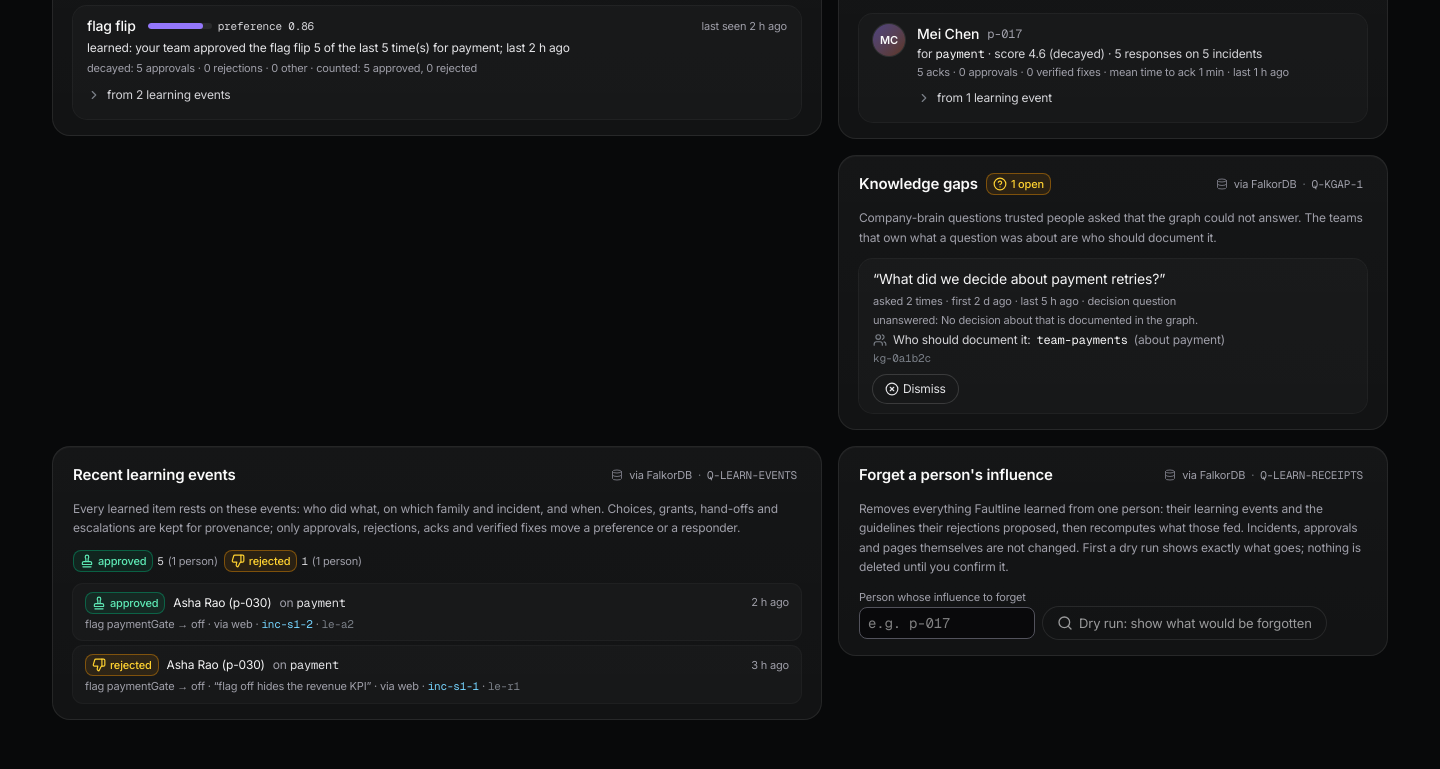
Test case: What Faultline has learned › forget: a stale token (409) deletes nothing and offers the dry run again
(page scrolled)
Type "p-030" into the field labelled "Person whose influence to forget" at (947, 623), box [859,607,1035,639]
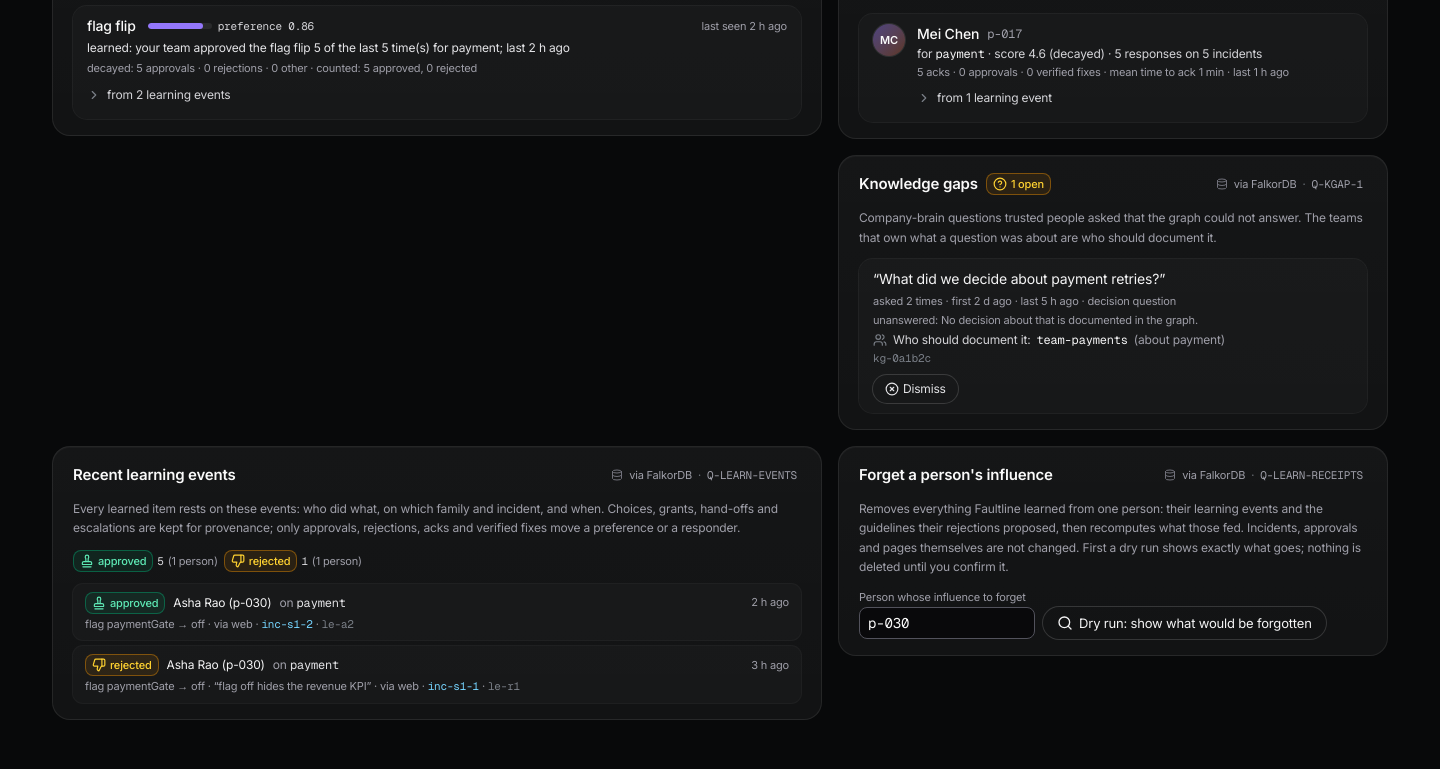
Click the button "Dry run: show what would be forgotten" at (1184, 623), box [1043,607,1326,639]
(page scrolled)
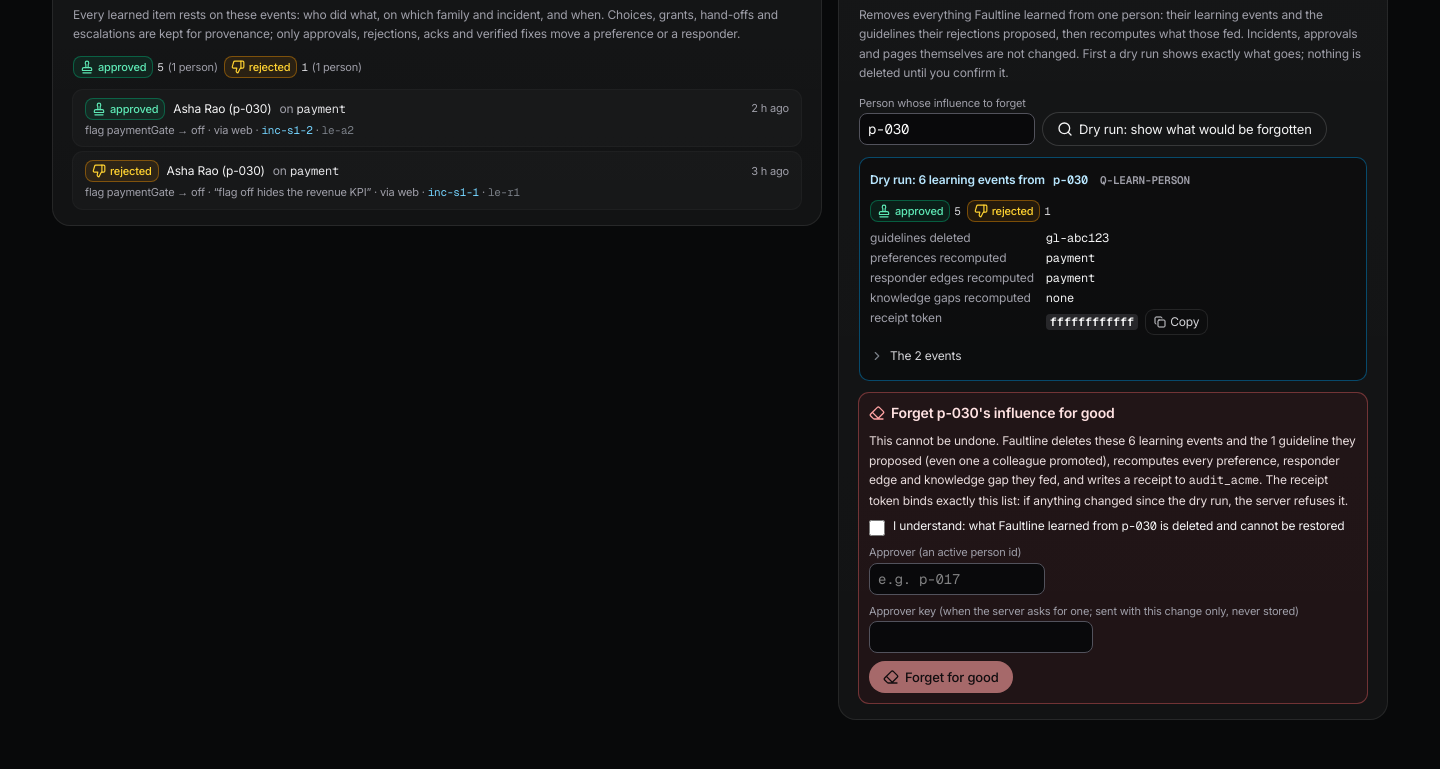
Type "p-017" into the field labelled "Approver (an active person id)" at (957, 579), box [869,563,1045,595]
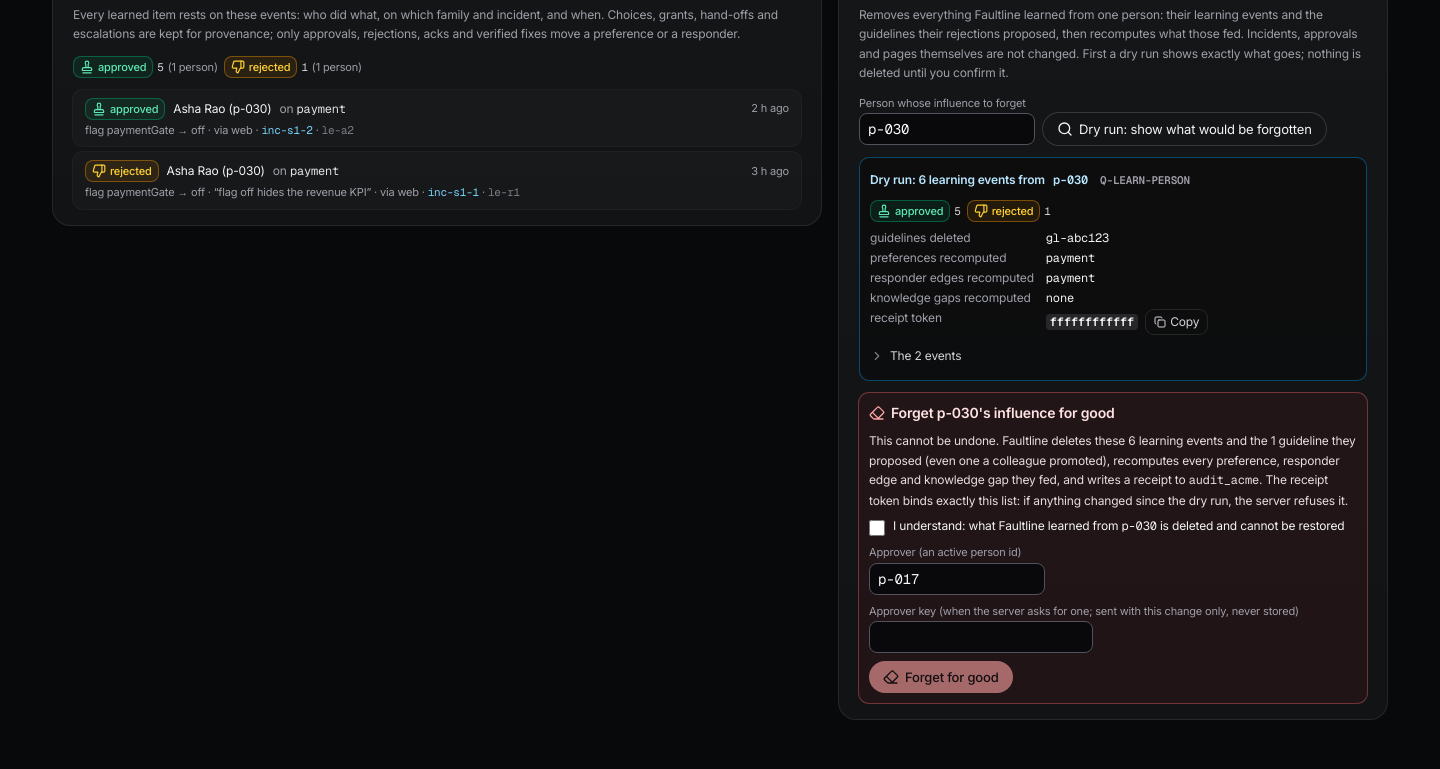
Click the checkbox labelled "I understand" at (877, 528), box [869,520,885,536]
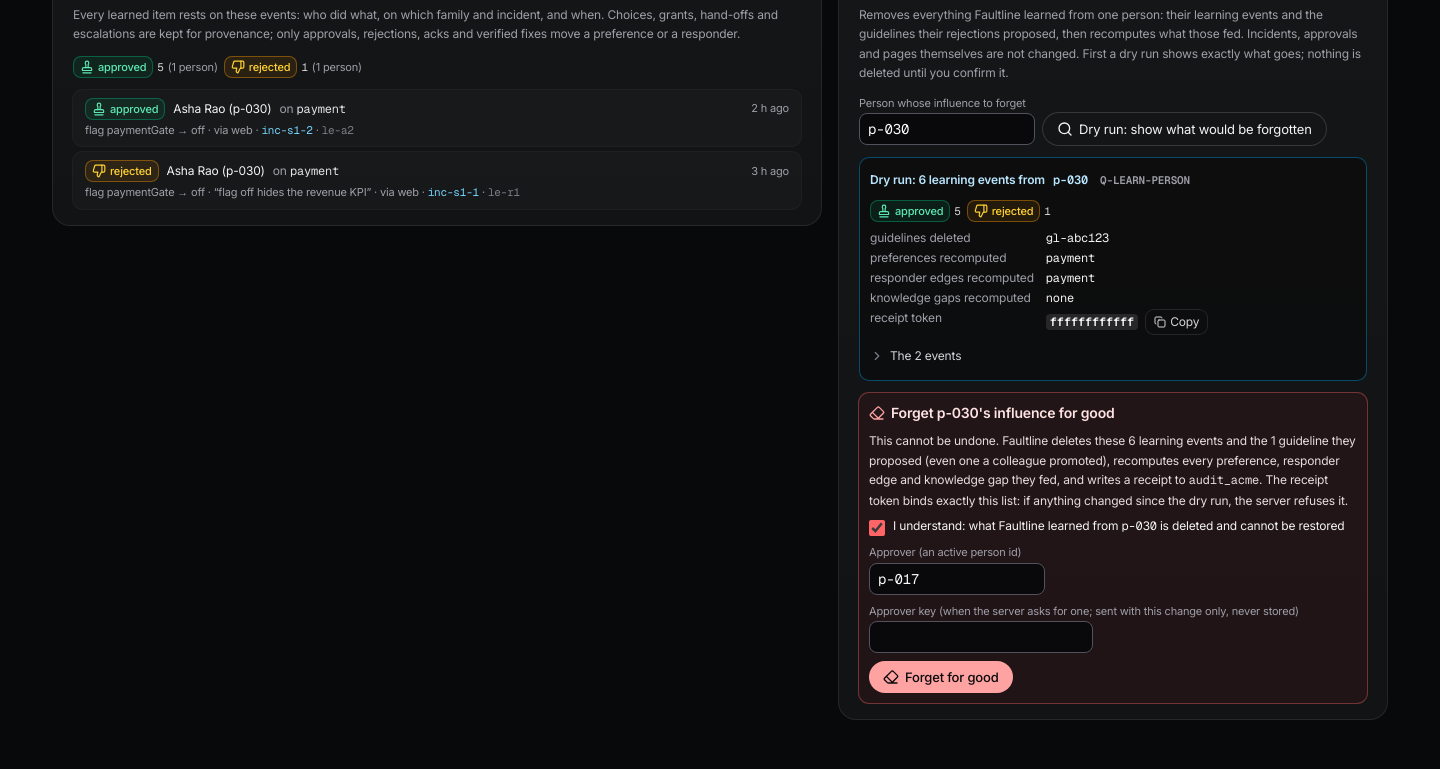
Click the button "Forget for good" at (941, 677), box [869,661,1012,693]
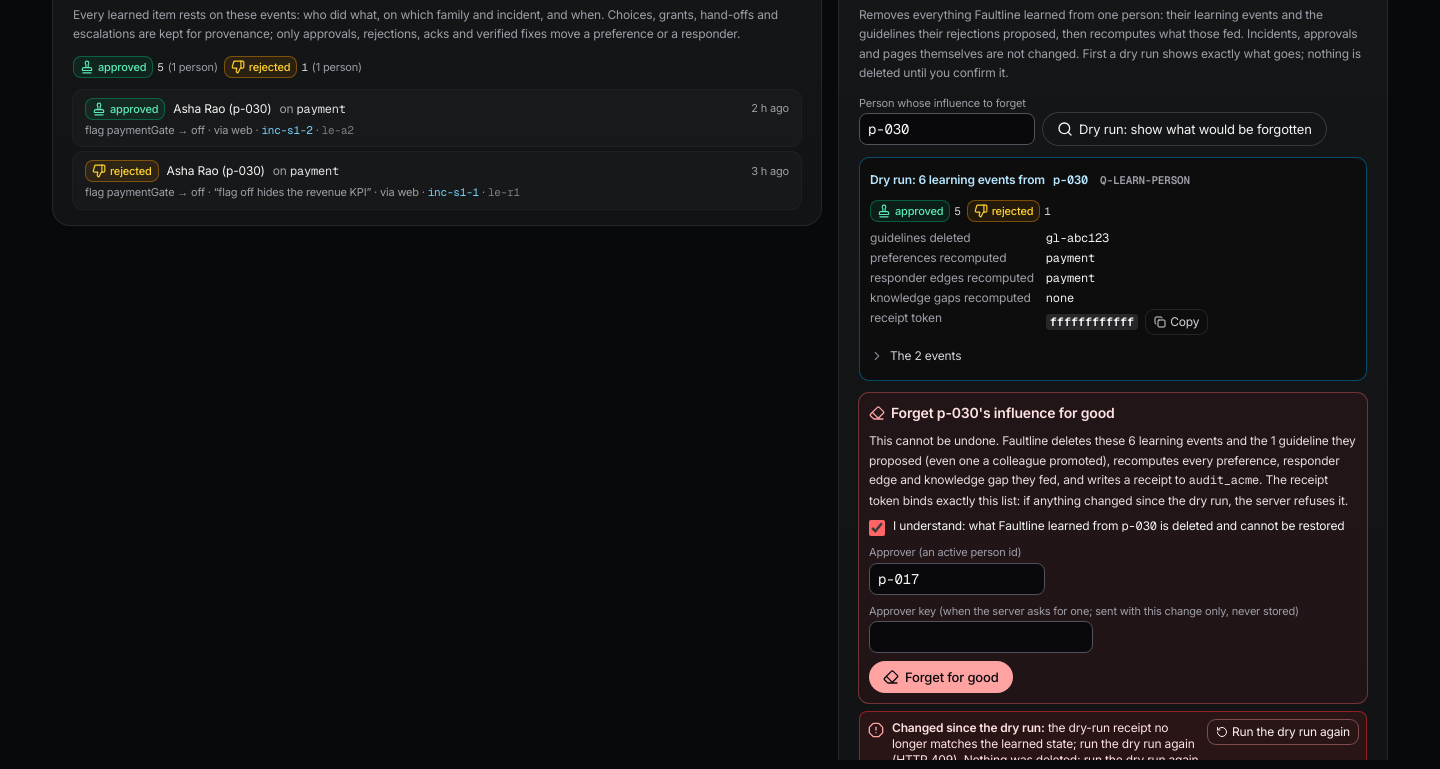
Expected: the button "Run the dry run again" is shown, [1208,720,1358,744]
